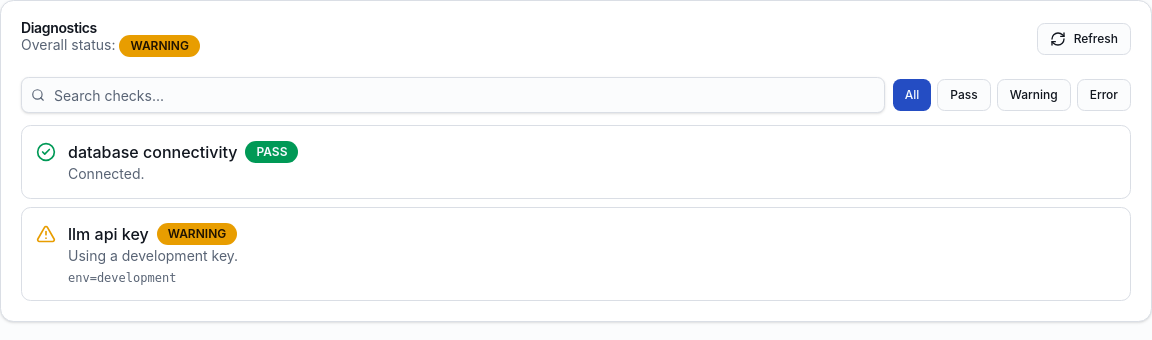
Scenario: DiagnosticsPage › filters findings by status
Check: the text "database connectivity" is shown, box [68,140,238,164]
Click the button "Warning".
click(1034, 95)  # box [997,79,1071,111]
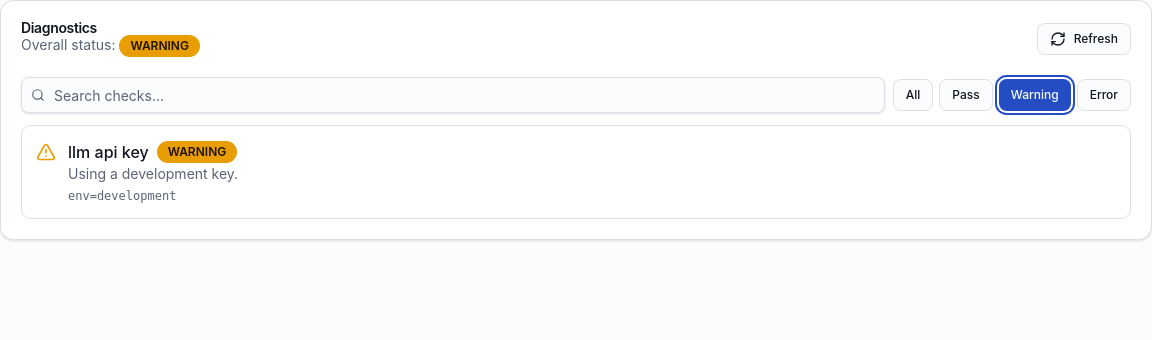
Check: the text "llm api key" is shown, box [68,140,149,164]
Check: the text "database connectivity" is gone
